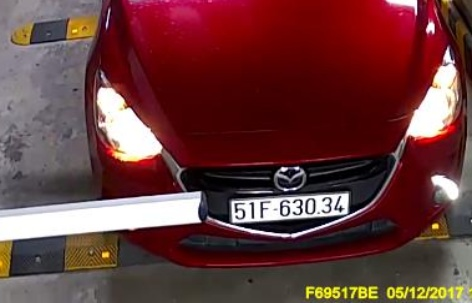plate: (218, 190, 359, 228)
